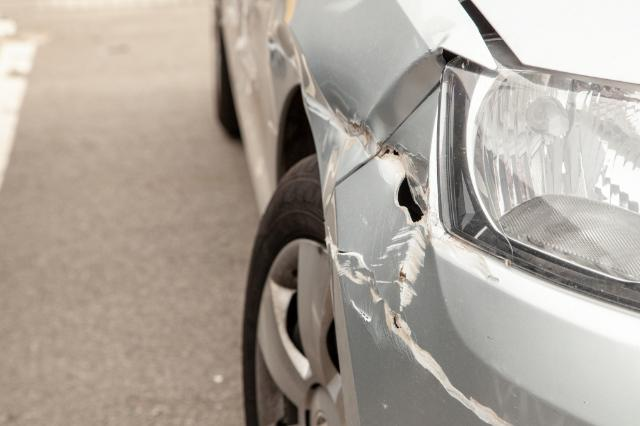crack: (396, 172, 425, 223), (382, 148, 402, 158)
dent: (309, 70, 389, 182)
scratch: (325, 222, 523, 426)
